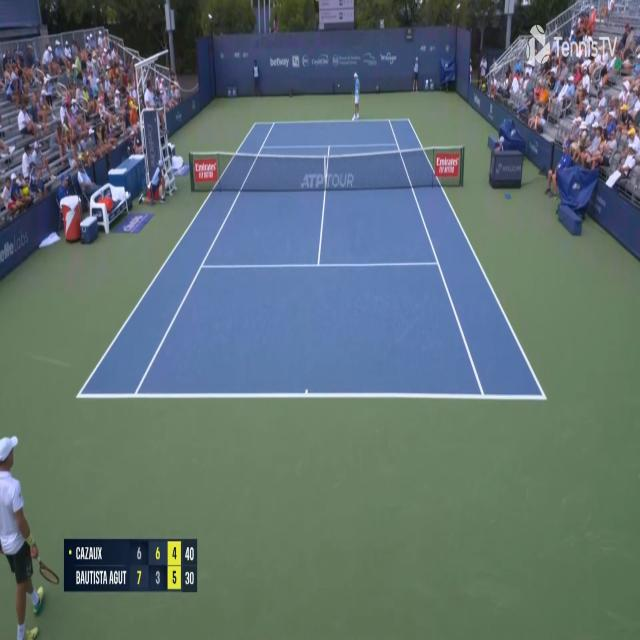tennis-player: (0, 430, 61, 640), (350, 70, 362, 124)
